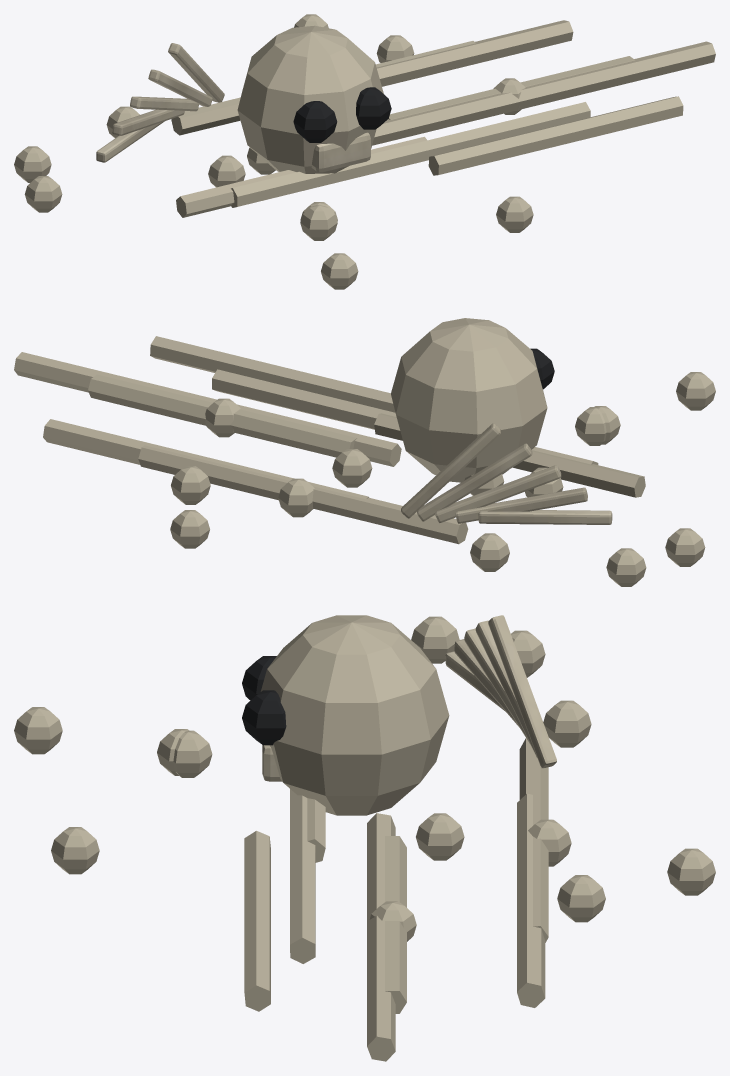
File: bone_pile.glb
3 renders of one model, top to bottom at view 1: azimuth 30°, elevation 25°; view 2: azimuth 150°, elevation 25°; view 3: azimuth 270°, elevation 25°, orthographic. The views are drawn at different scales.
Visible parts, largest first — view 1: body; view 2: body; view 3: body.
Part boxes in pixels (bbox=[...]): body: bbox=[14, 14, 715, 289]; body: bbox=[14, 318, 715, 586]; body: bbox=[14, 615, 715, 1061].
Size of the model in its own units: 1.22 by 0.256 by 0.8626.
2 materials, 1 textured.
